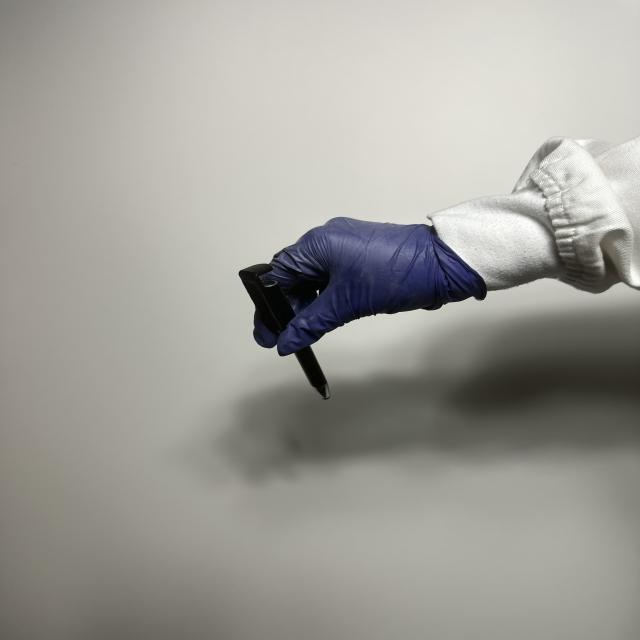gloves_contaminated: (254, 218, 486, 356)
